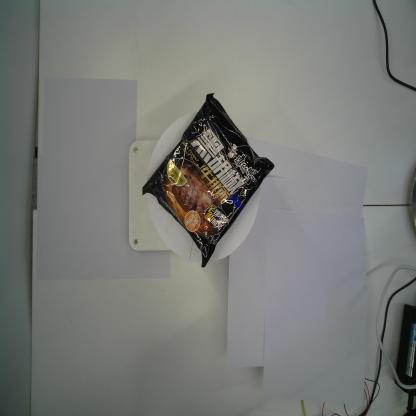Instant Noodles: (140, 92, 276, 269)
